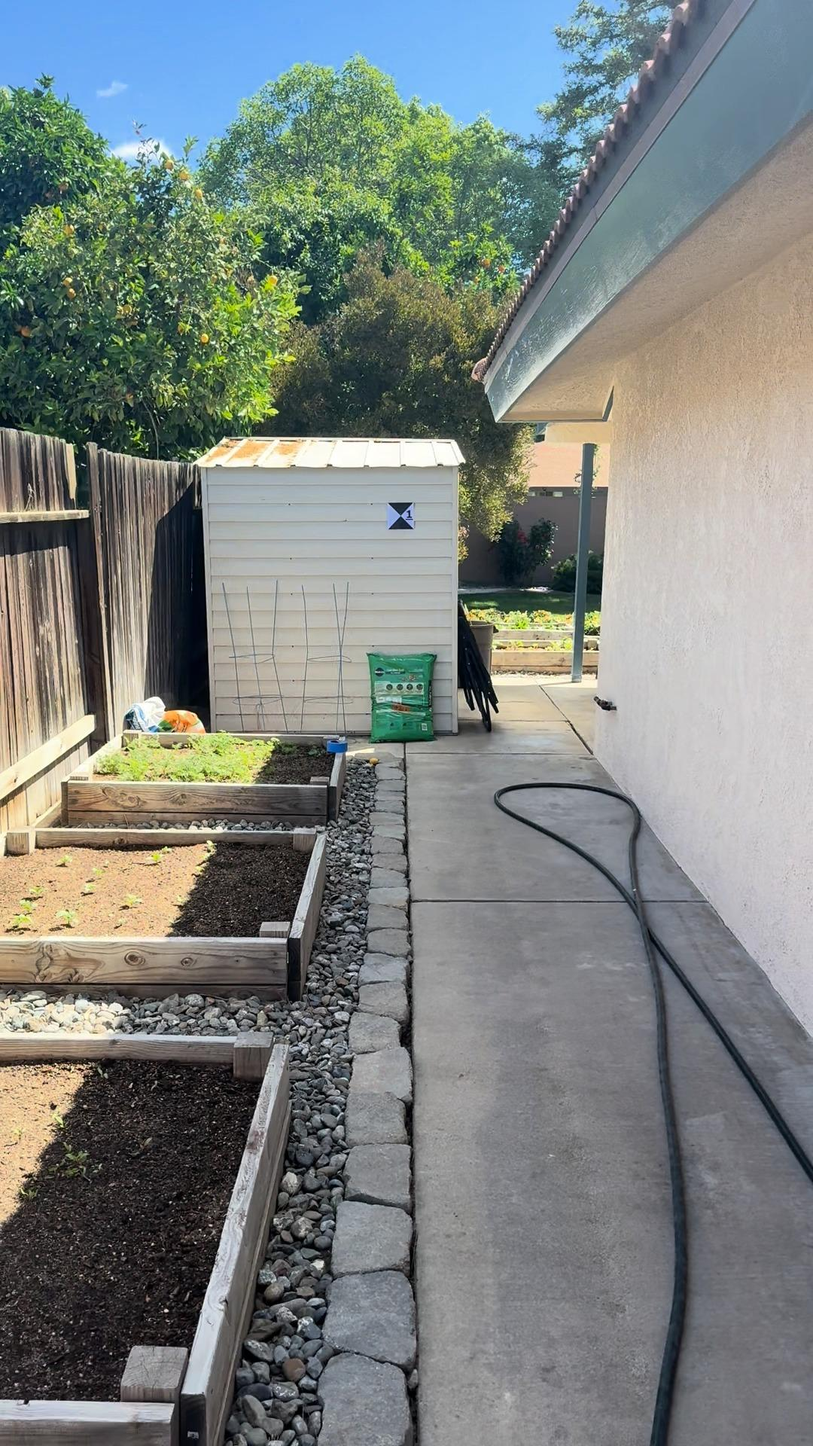target1: (385, 499, 419, 532)
